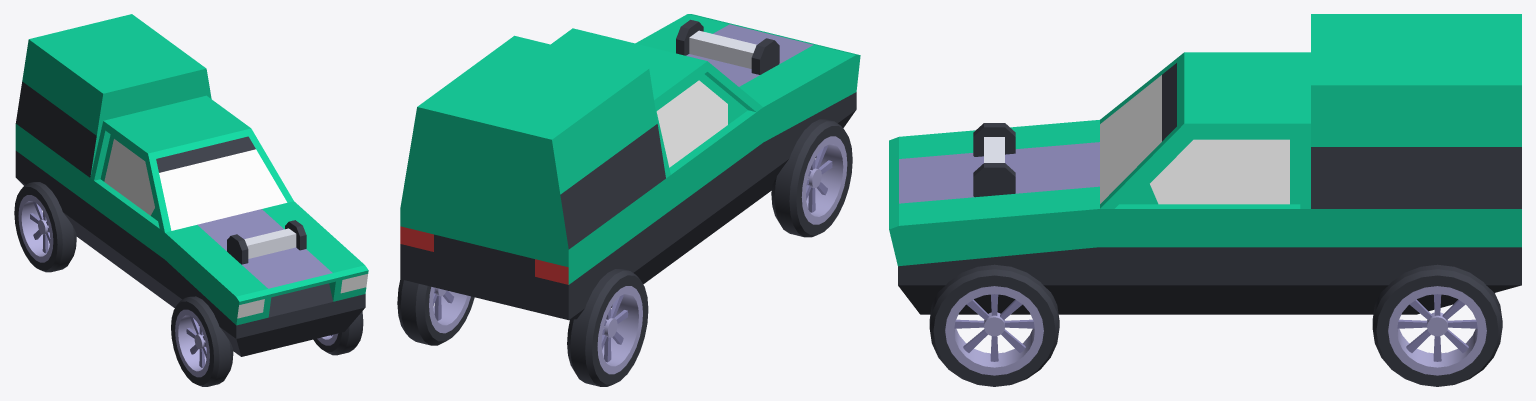
Rendered from Van.fbx.
3 views of the same model, side by side, from view 1: azimuth 30°, elevation 25°; view 2: azimuth 150°, elevation 25°; view 3: azimuth 270°, elevation 25° (orthographic). The views are drawn at different scales.
Visible parts, largest first — view 1: body_frontSports, body_topStandard, body_topBackVan, wheel_cycleSpokesDetailed (×3), body_standard, body_backSolid, socket_small; view 2: body_topBackVan, body_backSolid, wheel_cycleSpokesDetailed (×3), body_frontSports, body_topStandard, body_standard, socket_small; view 3: body_topBackVan, body_frontSports, body_topStandard, body_standard, wheel_cycleSpokesDetailed (×2), body_backSolid, socket_small.
Boxes of the visible parts, <box> form: body_frontSports: <box>165,201,368,356</box>; body_topStandard: <box>90,95,293,232</box>; body_topBackVan: <box>15,14,211,177</box>; wheel_cycleSpokesDetailed (×3): <box>14,182,363,386</box>; body_standard: <box>90,178,175,307</box>; body_backSolid: <box>15,124,102,255</box>; socket_small: <box>227,220,306,264</box>; body_topBackVan: <box>400,35,665,249</box>; body_backSolid: <box>400,179,665,320</box>; wheel_cycleSpokesDetailed (×3): <box>397,119,852,386</box>; body_frontSports: <box>635,14,860,208</box>; body_topStandard: <box>551,28,762,178</box>; body_standard: <box>649,107,763,279</box>; socket_small: <box>676,19,779,74</box>; body_topBackVan: <box>1311,14,1521,208</box>; body_frontSports: <box>889,120,1099,314</box>; body_topStandard: <box>1100,52,1310,208</box>; body_standard: <box>1100,204,1310,314</box>; wheel_cycleSpokesDetailed (×2): <box>929,264,1502,386</box>; body_backSolid: <box>1311,209,1521,314</box>; socket_small: <box>973,123,1015,197</box>.
Size of the model in its own units: 11.56 by 15.08 by 30.
